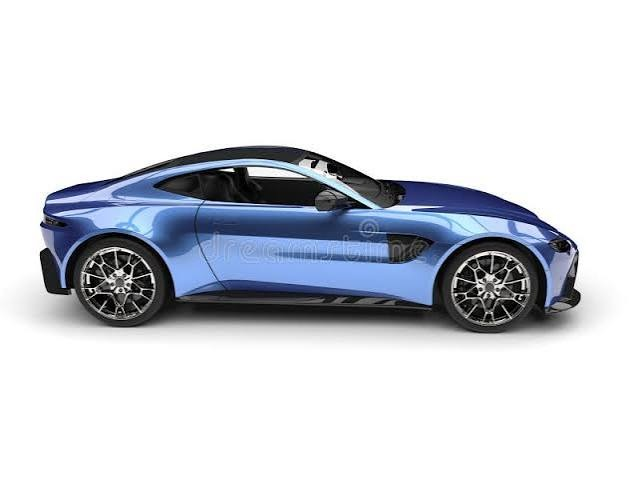car: (33, 153, 580, 336)
